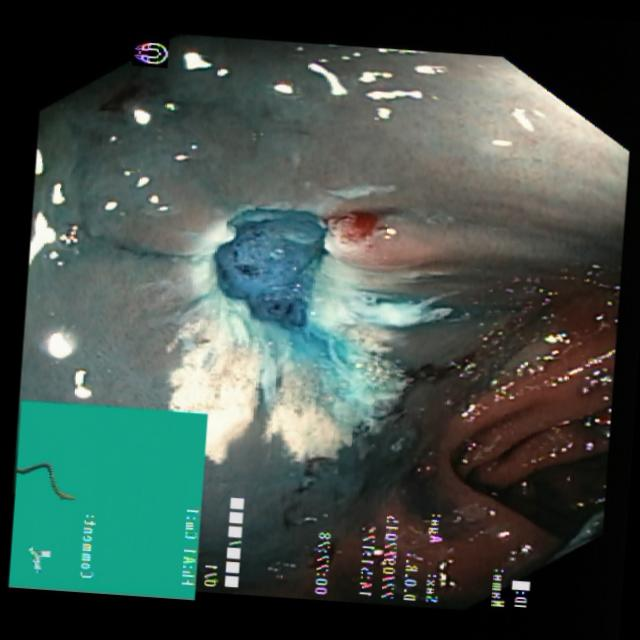dyed-resection-margins: (143, 172, 473, 465)
